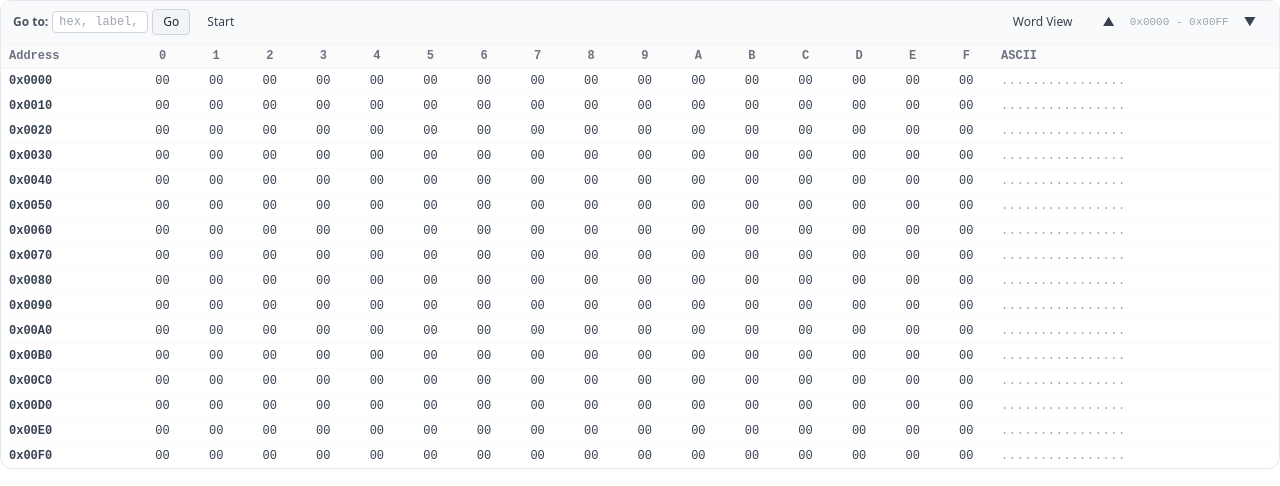
Test case: MemoryViewer › navigates pages using Next and Previous page buttons
Expected: the text "0x0000 - 0x00FF" is shown, [1130,14,1229,30]
Click the button named "Next memory page" at (1250, 22), box [1233,9,1267,35]
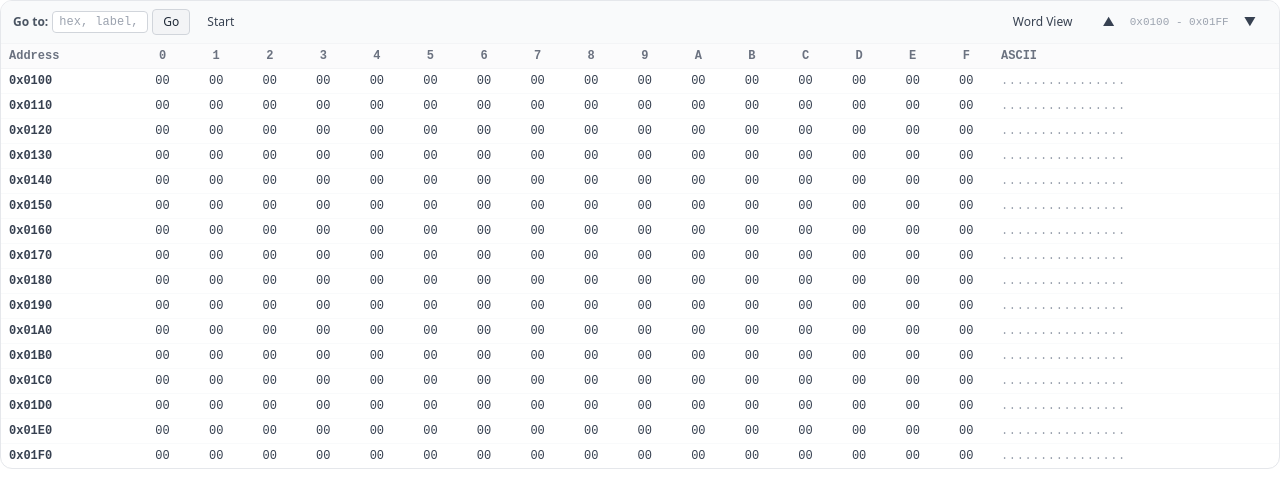
Now the text "0x0100 - 0x01FF" is shown, box [1130,14,1229,30]
Click the button named "Previous memory page" at (1109, 22), box [1091,9,1126,35]
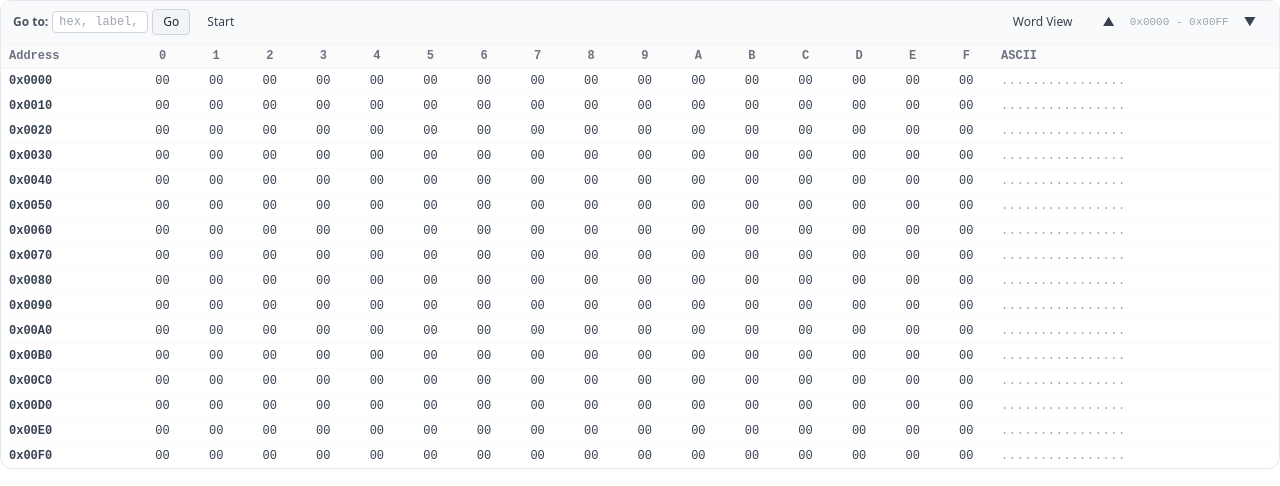
Now the text "0x0000 - 0x00FF" is shown, box [1130,14,1229,30]
